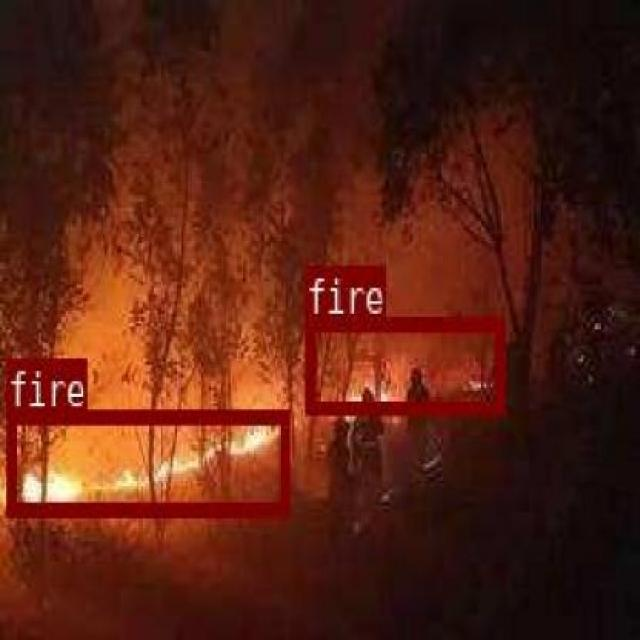Fire: (4, 407, 287, 513), (303, 316, 503, 412)
